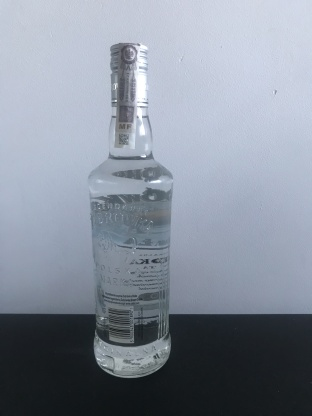nakretka: (106, 38, 151, 110)
